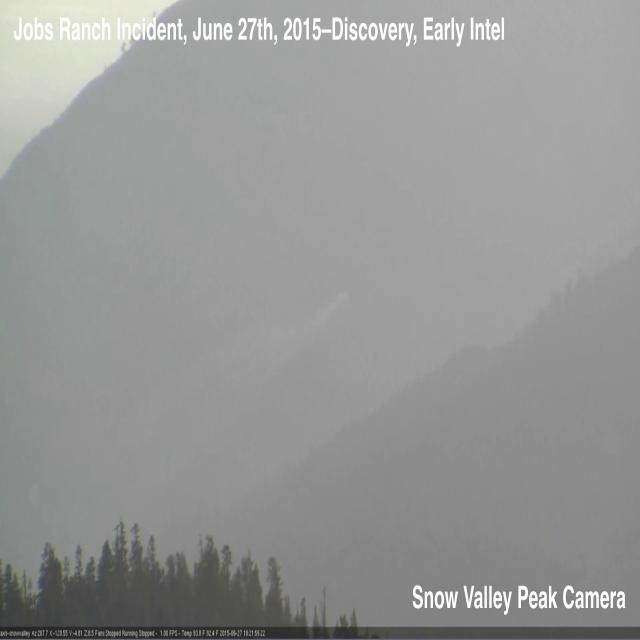smoke: (232, 281, 355, 409)
